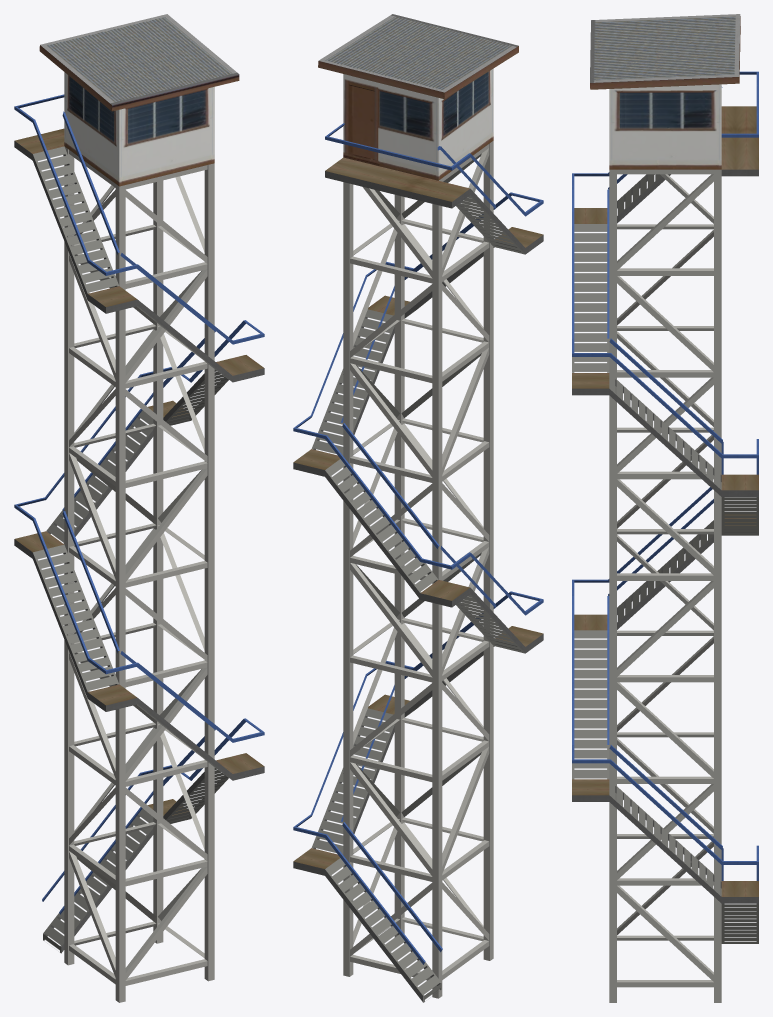
The model's file is fire-tower-27m-cbj_LOD02.gltf.
3 views of the same model, side by side, from view 1: azimuth 30°, elevation 25°; view 2: azimuth 150°, elevation 25°; view 3: azimuth 270°, elevation 25° (orthographic). The views are drawn at different scales.
Parts seen in each view (by area): view 1: Cube.002; view 2: Cube.002; view 3: Cube.002.
Boxes of the visible parts, x1,y1,x2,y2 form: Cube.002: (14, 14, 264, 1002); Cube.002: (293, 14, 543, 1002); Cube.002: (572, 14, 758, 1002).
Bounding box in the file's own units: 5 × 27.58 × 5.
